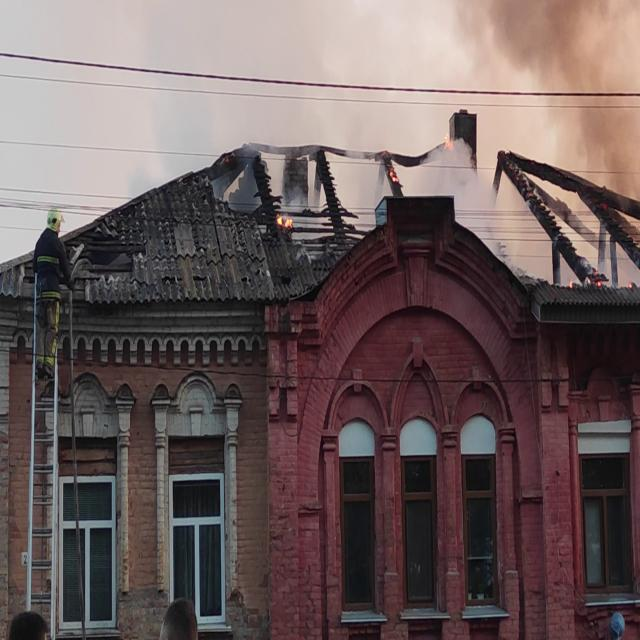smoke: (487, 2, 640, 176), (416, 134, 472, 196)
